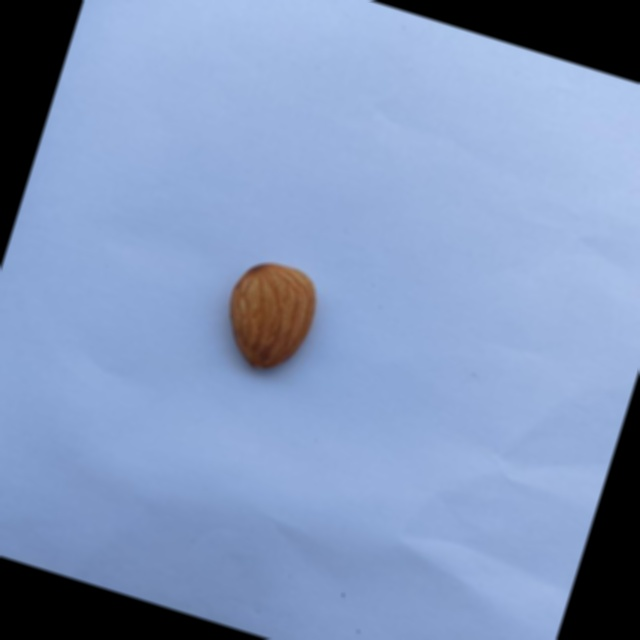grade1: (205, 245, 337, 391)
